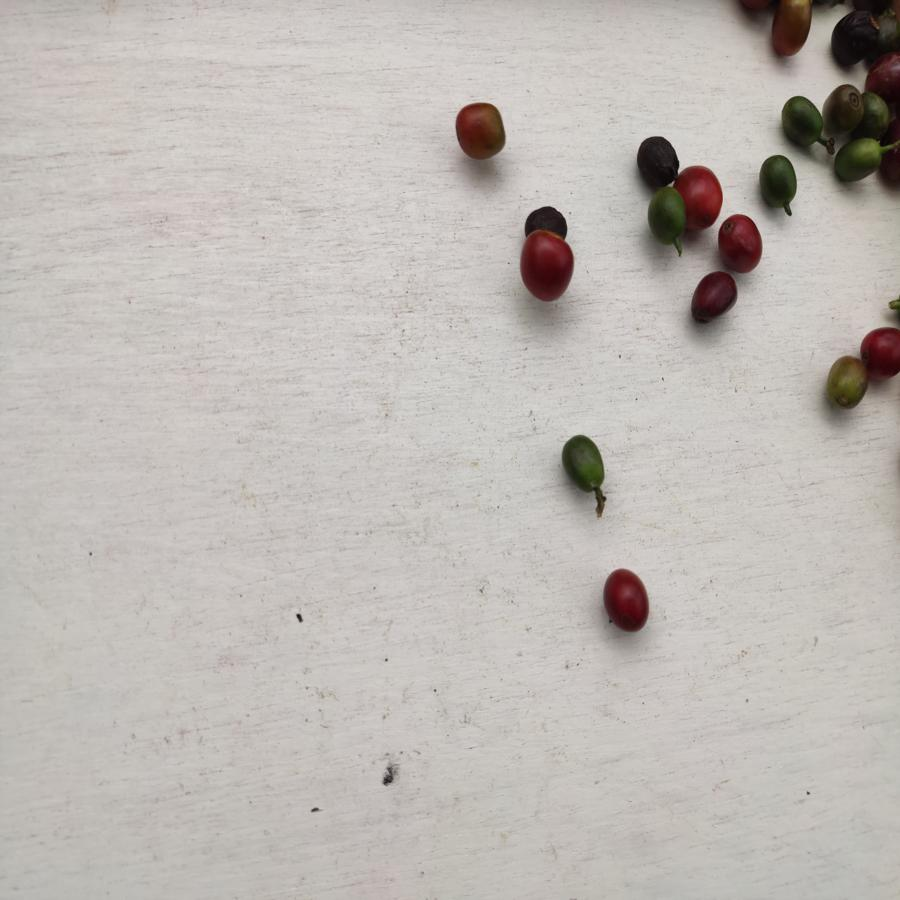Inmaduro: (558, 432, 606, 493), (644, 186, 686, 250), (777, 95, 825, 149), (834, 138, 882, 187), (760, 152, 799, 212), (827, 77, 861, 141), (857, 92, 888, 137)
Maduro: (521, 230, 575, 303), (598, 568, 654, 633), (718, 211, 765, 275), (680, 165, 723, 226), (859, 322, 900, 381)
Pinton: (454, 101, 508, 159), (824, 357, 872, 416), (768, 1, 812, 58)
Sobremaduro: (832, 7, 874, 68), (691, 270, 737, 324), (637, 131, 679, 184), (520, 205, 569, 233)
